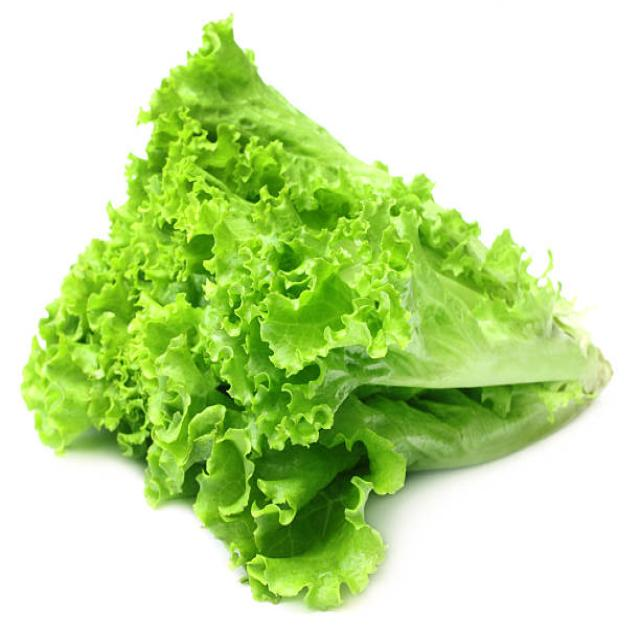Wet Waste: (34, 21, 547, 613)
